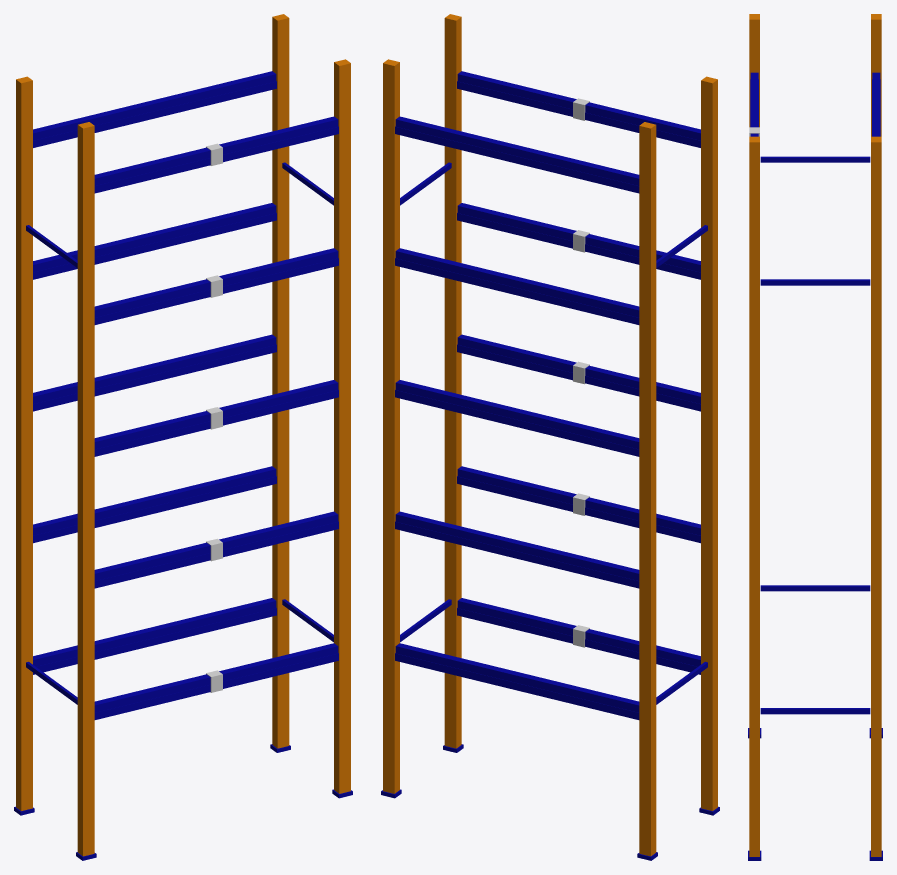
File: high-duty-C23-5.glb
3 renders of one model, left to right at view 1: azimuth 30°, elevation 25°; view 2: azimuth 150°, elevation 25°; view 3: azimuth 270°, elevation 25°, orthographic.
Visible parts, largest first — view 1: part_0, part_4, part_2, part_6, part_30, part_8, part_28, part_13, part_23, part_18, part_20, part_15 (+12 smaller); view 2: part_4, part_0, part_6, part_2, part_10, part_30, part_15, part_25, part_20, part_28, part_18, part_13 (+12 smaller); view 3: part_2, part_6, part_4, part_0, part_36, part_33, part_34, part_35, part_30, part_28.
Part boxes in pixels (<box>): part_0: <box>77,122,94,856</box>; part_4: <box>16,76,32,811</box>; part_2: <box>334,59,350,793</box>; part_6: <box>272,14,289,748</box>; part_30: <box>33,71,276,140</box>; part_8: <box>94,643,338,712</box>; part_28: <box>94,116,338,185</box>; part_13: <box>94,511,338,580</box>; part_23: <box>94,248,338,317</box>; part_18: <box>94,380,338,449</box>; part_20: <box>33,334,276,403</box>; part_15: <box>33,466,276,535</box>; part_4: <box>639,122,656,856</box>; part_0: <box>701,76,717,811</box>; part_6: <box>383,59,399,793</box>; part_2: <box>444,14,461,748</box>; part_10: <box>395,643,639,712</box>; part_30: <box>395,116,639,185</box>; part_15: <box>395,511,639,580</box>; part_25: <box>395,248,639,317</box>; part_20: <box>395,380,639,449</box>; part_28: <box>457,71,700,140</box>; part_18: <box>457,334,700,403</box>; part_13: <box>457,466,700,535</box>; part_2: <box>749,136,759,856</box>; part_6: <box>871,136,881,856</box>; part_4: <box>871,14,881,136</box>; part_0: <box>749,14,759,127</box>; part_36: <box>760,279,870,285</box>; part_33: <box>760,585,870,591</box>; part_34: <box>760,156,870,162</box>; part_35: <box>760,708,870,714</box>; part_30: <box>872,72,880,136</box>; part_28: <box>750,72,758,136</box>.
Bounding box in the file's own units: 2320 × 6000 × 1020.
